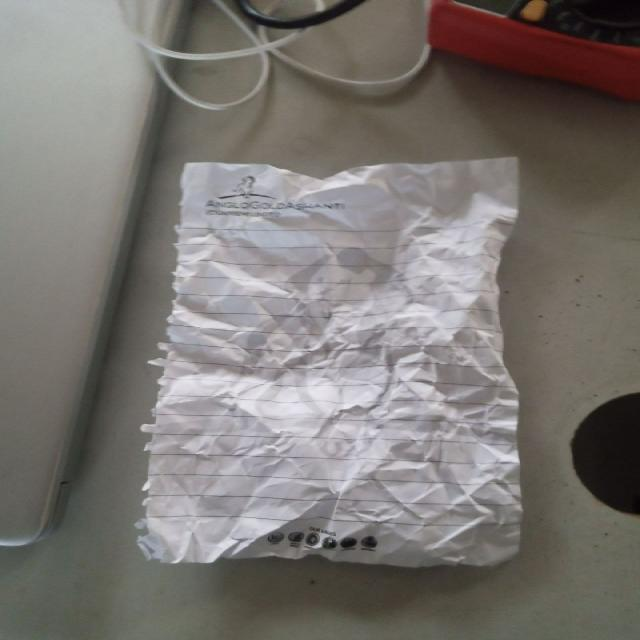Paper: (143, 159, 523, 570)
